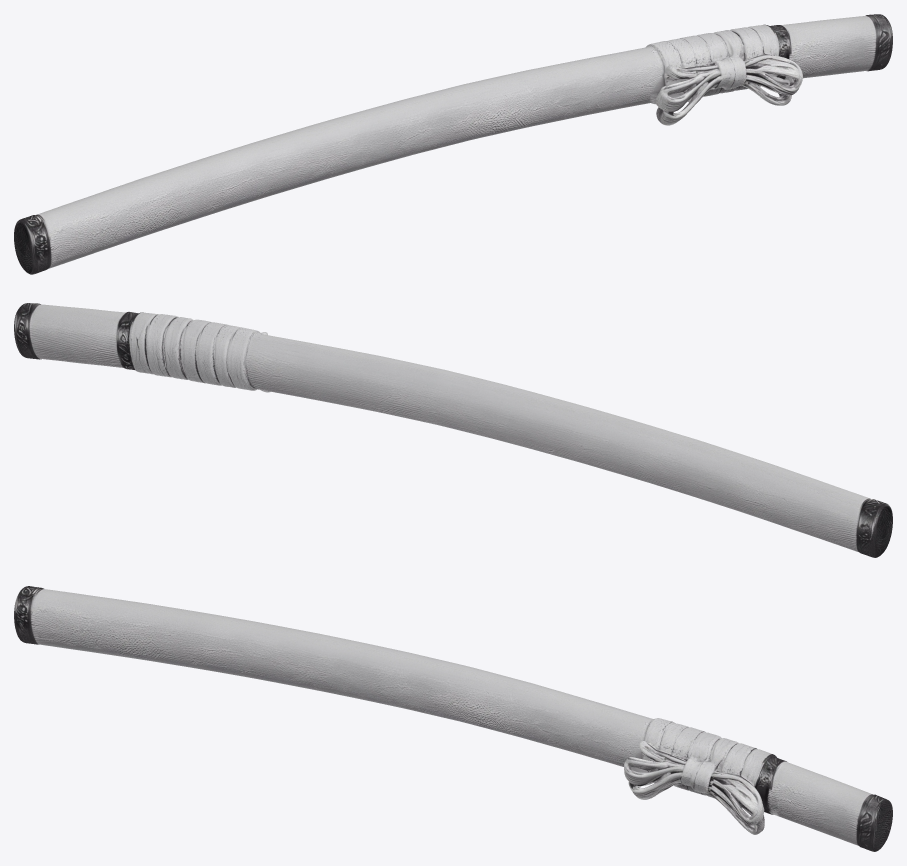
File: katana.glb
3 renders of one model, top to bottom at view 1: azimuth 30°, elevation 25°; view 2: azimuth 150°, elevation 25°; view 3: azimuth 330°, elevation 25°, orthographic.
Visible parts, largest first — view 1: mesh_node; view 2: mesh_node; view 3: mesh_node.
Part boxes in pixels (x1,y1,x2,y2): mesh_node: [14, 14, 892, 274]; mesh_node: [14, 303, 892, 557]; mesh_node: [14, 586, 892, 851].
Size of the model in its own units: 1.9 by 0.1778 by 0.1366.
1 material, 1 textured.
